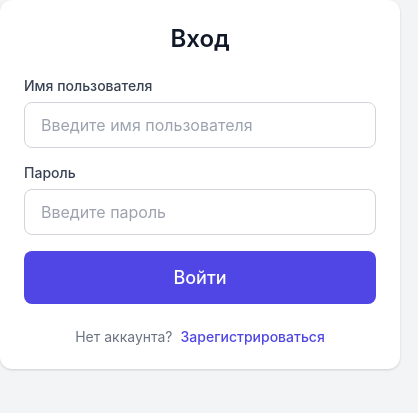
Test case: LoginForm › показывает ошибку при коротком пароле (менее 6 символов)
The image size is (418, 413).
Type "testuser" into the field with placeholder "Введите имя пользователя".
click(200, 125); type("testuser")  # box [24, 102, 376, 148]
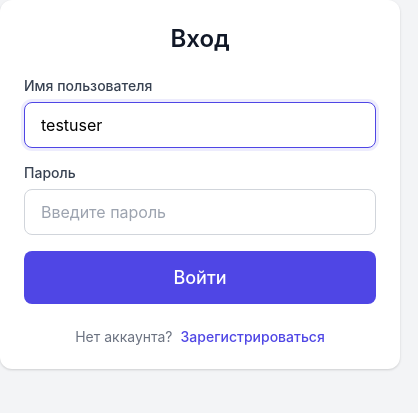
Type "12345" into the password field with placeholder "Введите пароль".
click(200, 212); type("12345")  # box [24, 189, 376, 235]
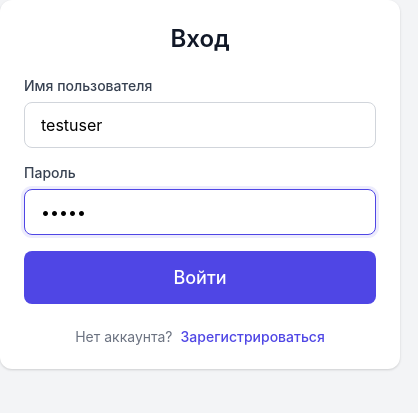
Click the button "Войти".
click(200, 278)  # box [24, 251, 376, 304]
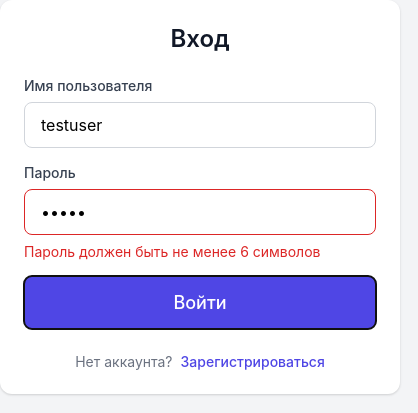
Expected: the text "Пароль должен быть не менее 6 символов" is shown, [24, 243, 320, 260]
